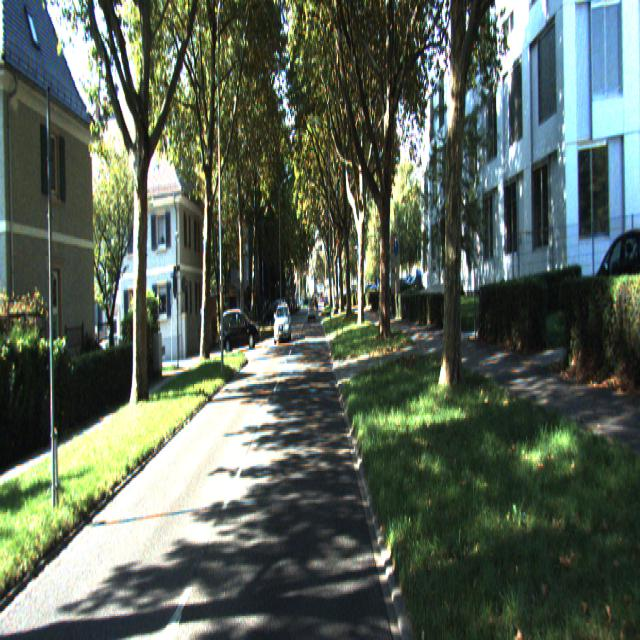Car: (220, 310, 260, 356), (272, 305, 292, 344)
